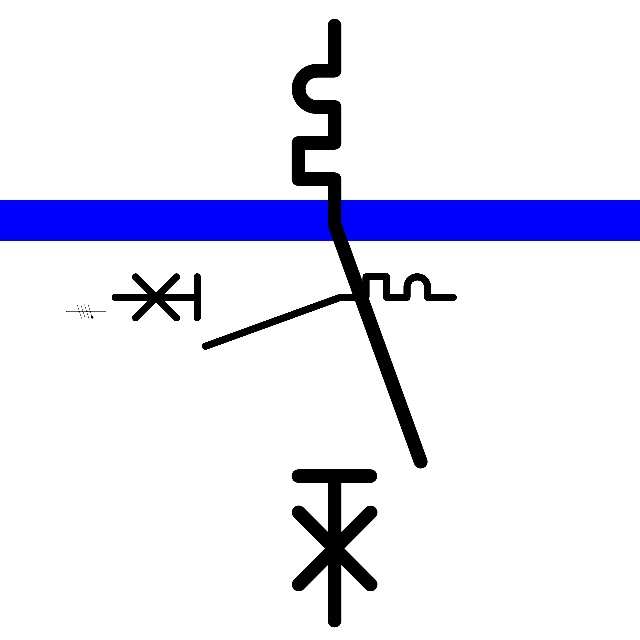interruptor_termomagnetico: (283, 10, 436, 635), (106, 268, 462, 355)
